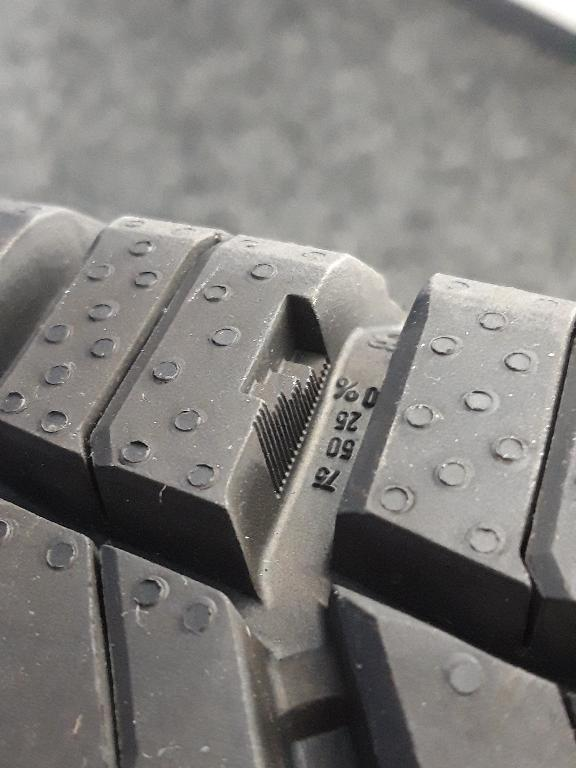temoin:100: (236, 292, 338, 502)
